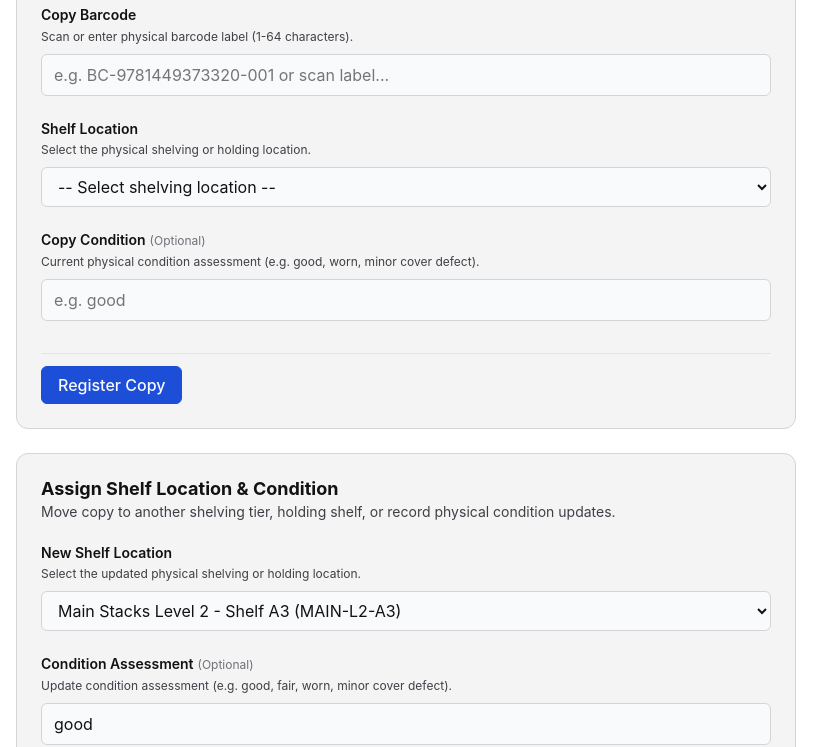
Test: Inventory, Locations, Copies and Status-Management Workspace (FE-006) › Client-Side Immediate Validation › validates barcode, location, and reason immediately before making server requests
(page scrolled)
Click the button "Register Copy" at {"x": 112, "y": 384}, box [41,366,182,404]
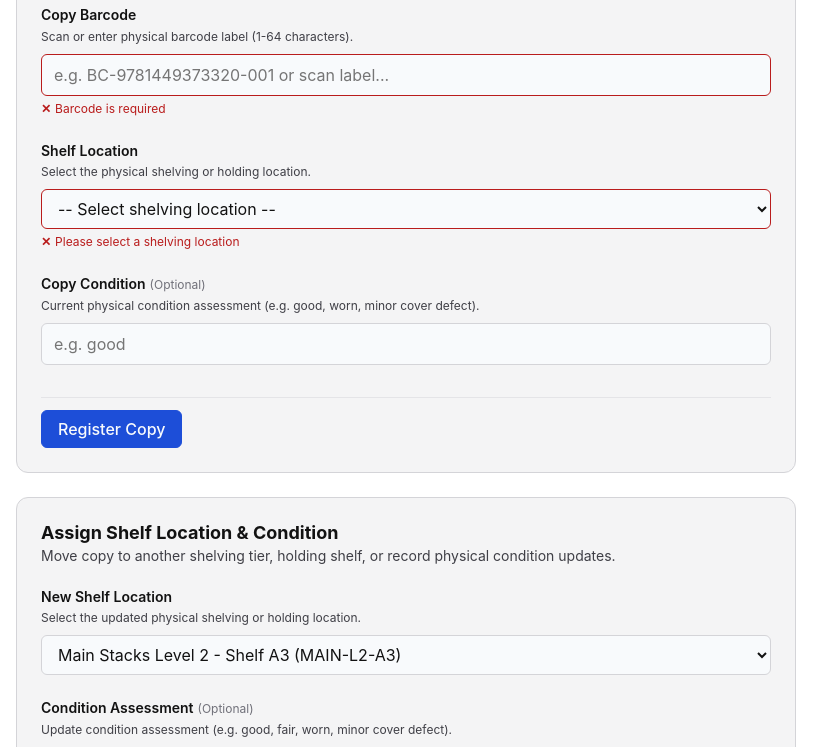
Result: the text "Barcode is required" is shown at [55,100,166,118]
Result: the text "Please select a shelving location" is shown at [55,233,240,251]
